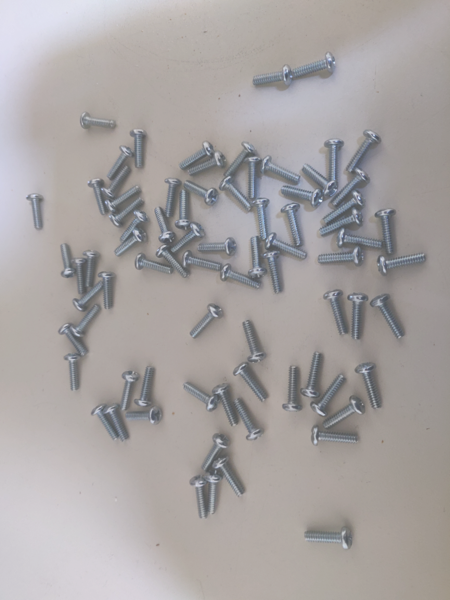shortscrew: (370, 293, 405, 340), (311, 374, 348, 418), (346, 130, 383, 174), (321, 396, 365, 430), (333, 168, 371, 207), (212, 455, 246, 498), (233, 363, 268, 403), (324, 190, 366, 223), (354, 363, 383, 409), (233, 398, 264, 441), (319, 208, 364, 237), (302, 163, 339, 198), (224, 141, 259, 178), (292, 52, 337, 80), (377, 253, 427, 277), (190, 304, 224, 339), (260, 155, 301, 184), (213, 384, 240, 428), (324, 290, 349, 336), (201, 434, 231, 472), (182, 383, 221, 412), (304, 527, 353, 550), (157, 245, 190, 279), (265, 233, 308, 259), (170, 222, 206, 253), (179, 141, 217, 170), (242, 320, 267, 364), (102, 405, 130, 443), (91, 404, 119, 442), (311, 426, 359, 448), (375, 208, 397, 256), (70, 304, 101, 338), (301, 352, 323, 399), (317, 245, 364, 267), (348, 292, 369, 341), (72, 281, 105, 312), (114, 228, 149, 257), (105, 185, 141, 213), (107, 145, 135, 181), (221, 264, 261, 289), (119, 211, 149, 244), (281, 184, 324, 207), (337, 228, 384, 249), (110, 197, 145, 225), (184, 180, 220, 207), (281, 204, 303, 248), (59, 323, 88, 356), (102, 166, 131, 199), (283, 365, 303, 412), (188, 151, 226, 175), (135, 366, 156, 408), (253, 65, 293, 87), (263, 251, 283, 295), (136, 253, 174, 276), (190, 475, 209, 520), (203, 471, 222, 515), (325, 139, 345, 180), (125, 405, 164, 426), (182, 251, 221, 272), (252, 198, 271, 241), (248, 236, 267, 279), (120, 371, 140, 411), (198, 237, 237, 257), (156, 206, 176, 244), (26, 193, 45, 231), (81, 111, 117, 131), (98, 271, 116, 311), (82, 251, 101, 288), (129, 130, 147, 168), (164, 178, 181, 218), (245, 157, 261, 199), (176, 189, 192, 231), (64, 353, 81, 392), (88, 177, 105, 216), (60, 243, 76, 278), (72, 257, 86, 295)
